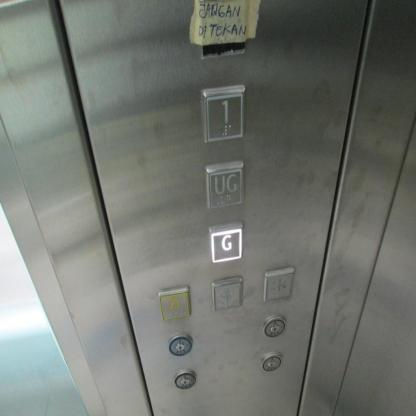1: (201, 84, 245, 142)
G: (208, 222, 243, 262)
UG: (204, 160, 244, 210)
alarm: (158, 284, 191, 320)
close: (263, 267, 294, 304)
keyhole: (167, 331, 193, 356), (260, 315, 287, 339), (258, 350, 284, 374), (172, 368, 196, 390)
open: (211, 276, 243, 311)
